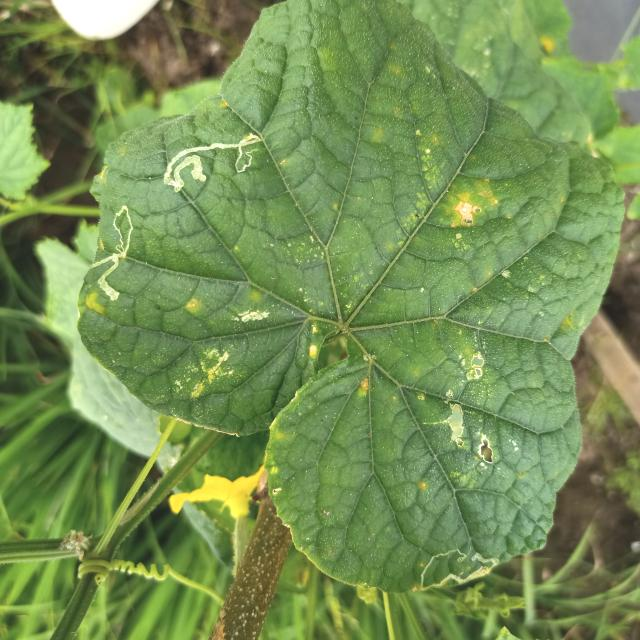disease_cucumber: (436, 341, 502, 473), (173, 343, 236, 403), (444, 183, 496, 249), (228, 304, 269, 330), (82, 285, 107, 317), (303, 319, 322, 357), (94, 163, 113, 184), (182, 292, 200, 314), (357, 375, 372, 398)
